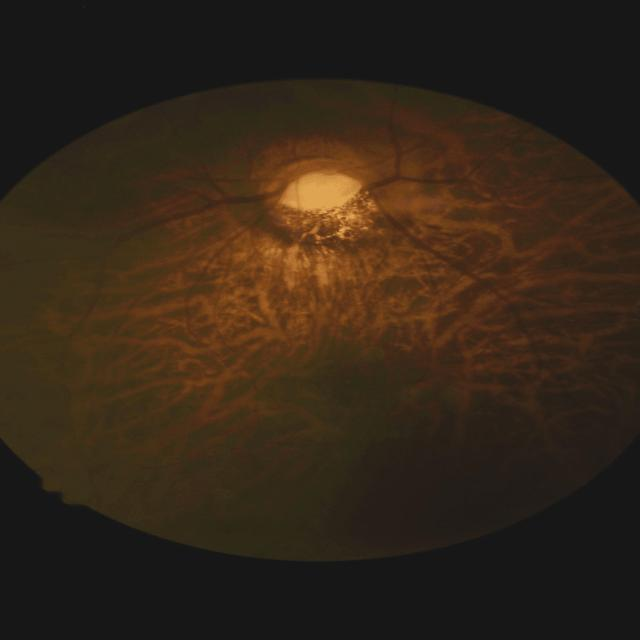cup: (278, 168, 365, 210)
disk: (256, 134, 382, 220)
